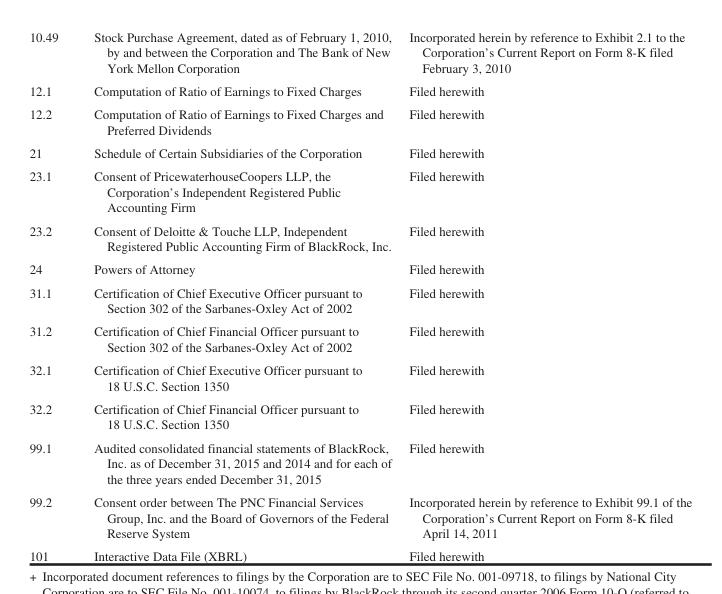table: (28, 29, 691, 563)
table column: (75, 29, 399, 563), (399, 29, 691, 563), (28, 29, 75, 563)
table column header: (28, 29, 691, 79)
table row: (28, 489, 691, 544), (28, 164, 691, 218), (28, 435, 691, 489), (28, 29, 691, 79), (28, 102, 691, 141), (28, 218, 691, 257), (28, 280, 691, 319), (28, 319, 691, 358), (28, 396, 691, 435), (28, 358, 691, 396), (28, 79, 691, 102), (28, 141, 691, 164), (28, 257, 691, 280), (28, 544, 691, 563)
